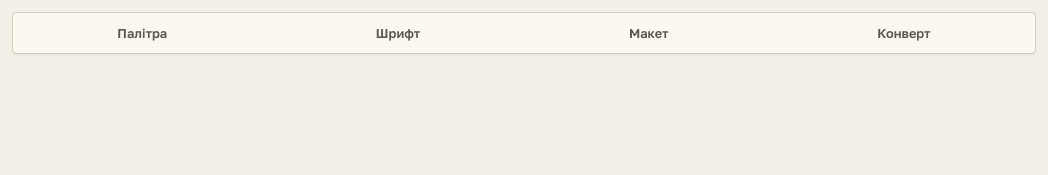
Scenario: DesignToolbar › closes the open sheet when the same tab is pressed again
Click the button "Палітра". click: click(142, 33)
box: [13,13,272,53]
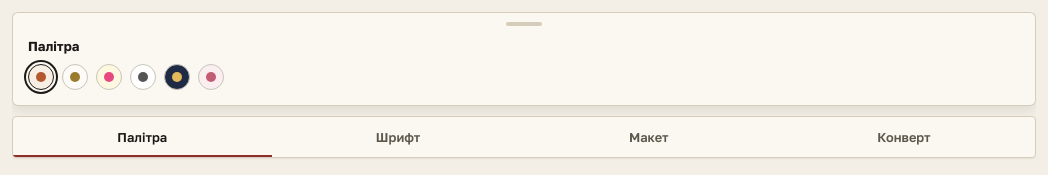
Click the button "Палітра". click: click(142, 137)
box: [13,117,272,157]
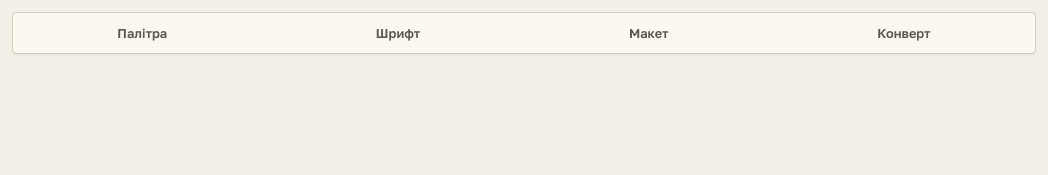
Now the element with class "cc-design-sheet" is gone
